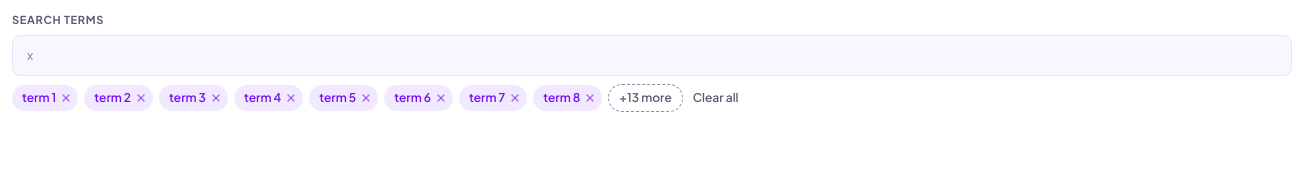
Test: TagInput long lists › collapses past collapseAfter and expands on demand
The width and height of the screenshot is (1304, 172).
Expected: the text "term 8" is shown, [533,85,602,111]
Expected: the text "term 9" is not shown
Click the button "+13 more" at (646, 98), box [608,84,683,112]
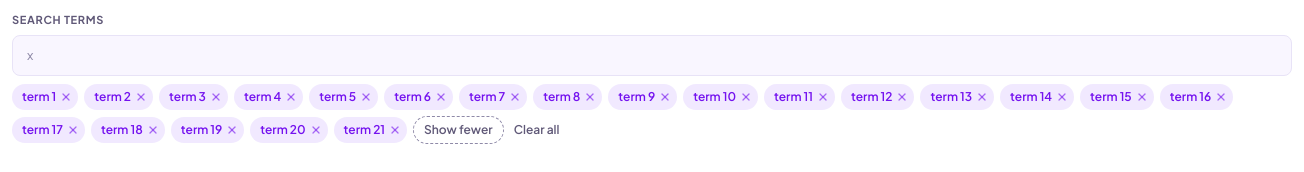
Expected: the text "term 21" is shown, [334,117,407,143]
Click the button "Show fewer" at (458, 130), box [413,116,504,144]
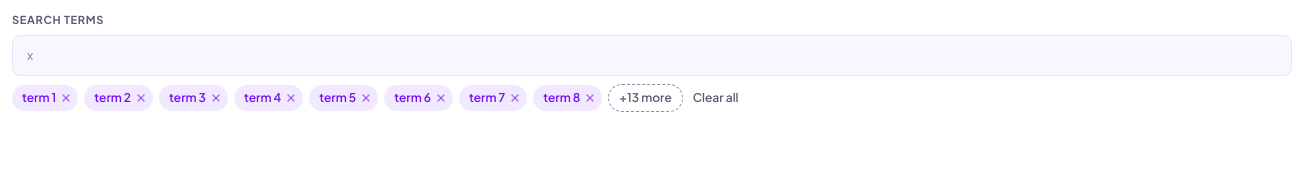
Expected: the text "term 21" is gone
